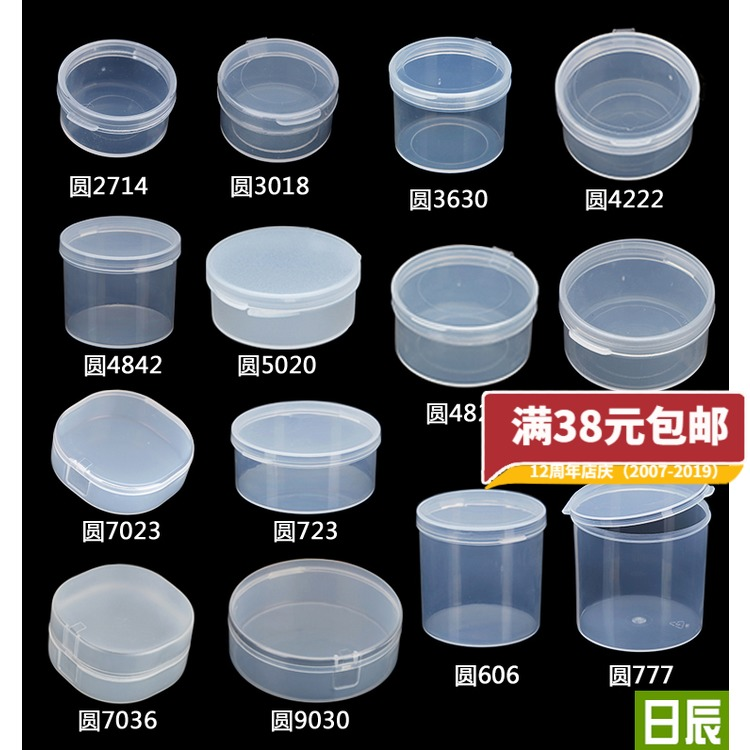PlasticBox: (383, 239, 541, 390)
